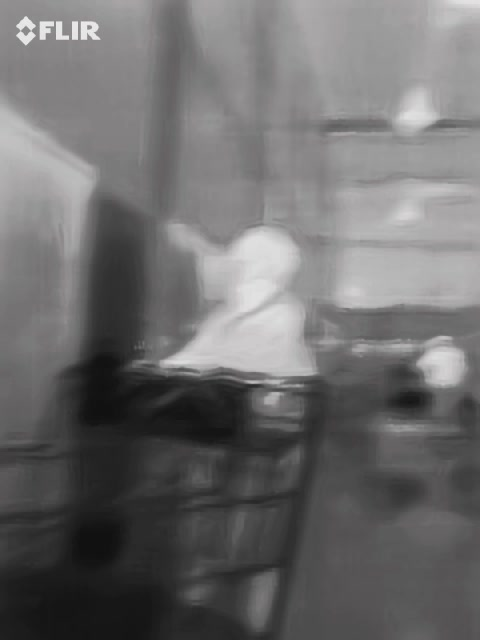head: (222, 227, 299, 301)
